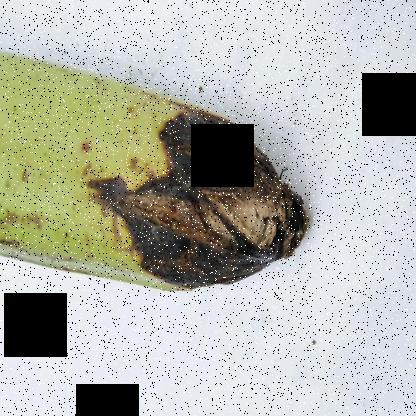rotten: (84, 81, 320, 314)
unripe: (0, 32, 135, 297)
